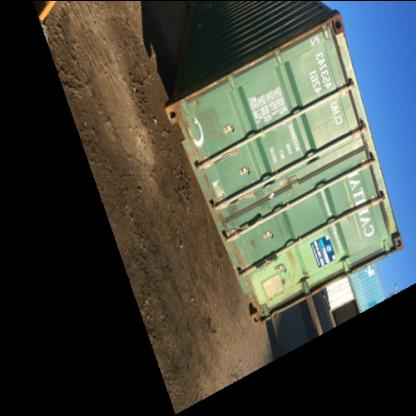Damage: (191, 110, 230, 142), (219, 198, 247, 230), (238, 238, 262, 252)
